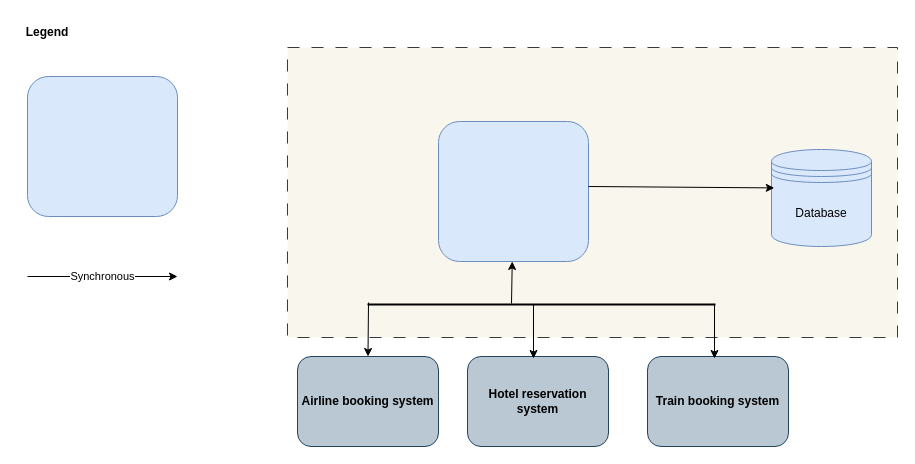
The diagram is 915 pixels wide and 464 high, and some of its shapes have lost their labels. The shapes that lost their labels are listed below. From the top down, each one's centre as x and y in pixels, then its label:
At (x=102, y=146): "Service RESTAPI".
At (x=513, y=191): "DataSupplier - Service Integrate with various Agencies and download trip details".
